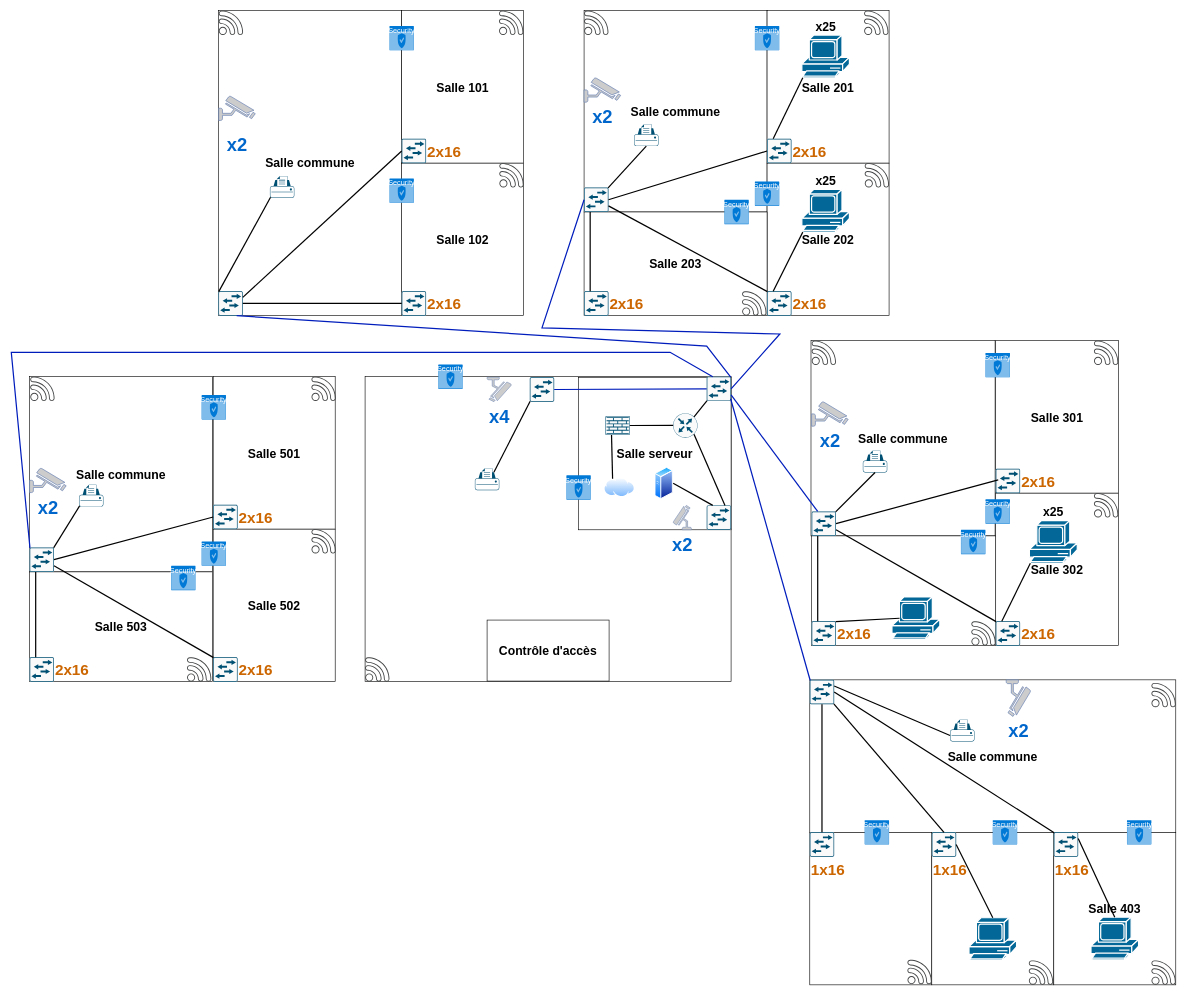
Image size: 1186x1004. Some labels were removed from this diagram. The box of each missing label's shape, as (x1, y1, x2, y2) in pixels:
Accueil: (364, 376, 731, 682)
Firewall: (605, 415, 630, 435)
Internet: (604, 478, 634, 497)
Routeur central: (673, 413, 698, 438)
Salle 303: (811, 535, 996, 646)
Salle 401: (809, 832, 932, 985)
Salle 402: (931, 832, 1054, 985)
Switch central: (706, 376, 731, 401)
x10: (1090, 916, 1139, 960)
x30: (891, 596, 940, 640)
x8: (968, 917, 1017, 961)
